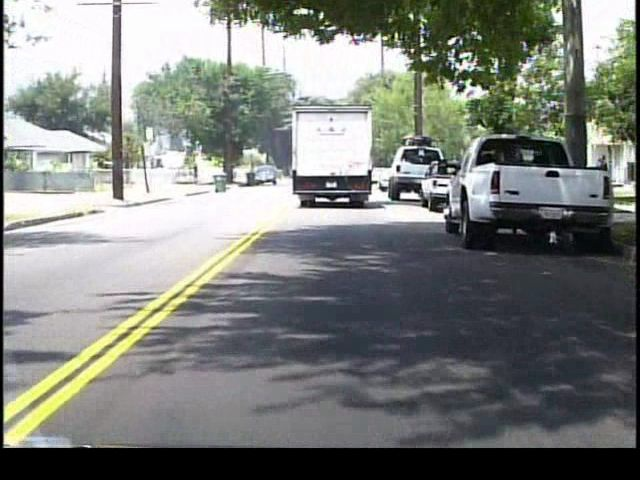person: (591, 156, 604, 200), (597, 155, 608, 203), (192, 163, 202, 186)
